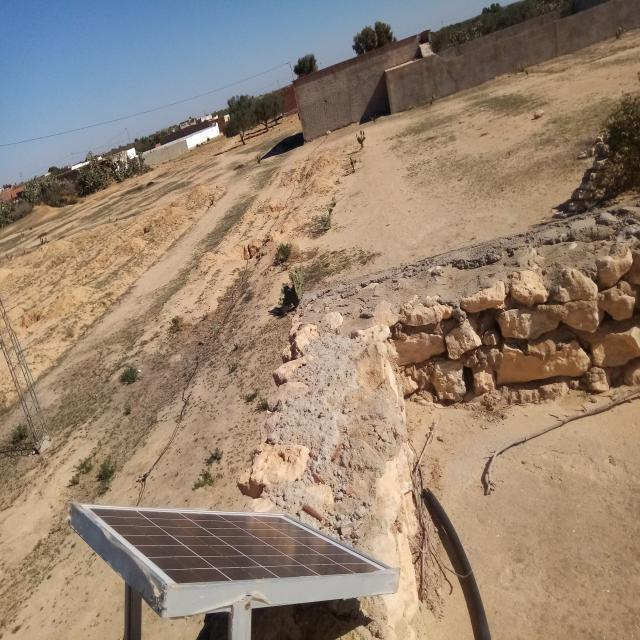no faulty: (74, 506, 398, 588)
